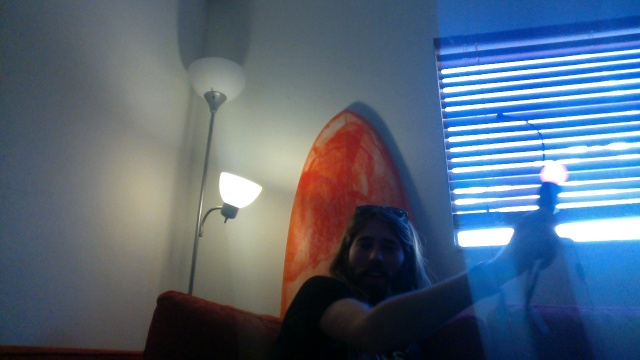wand: (540, 161, 567, 186)
